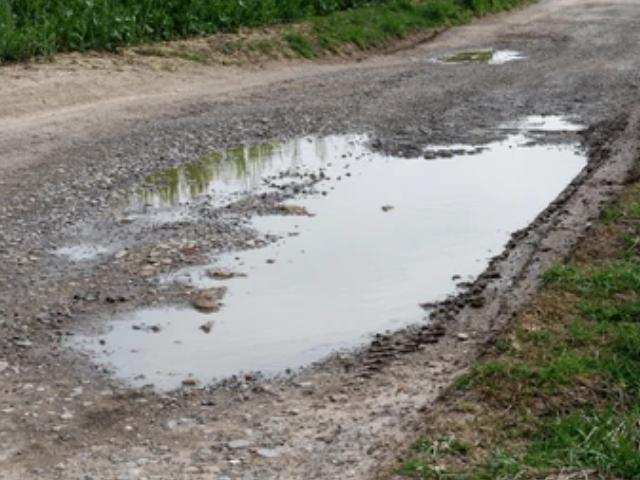water accumulation: (62, 114, 601, 398), (432, 46, 525, 66)
